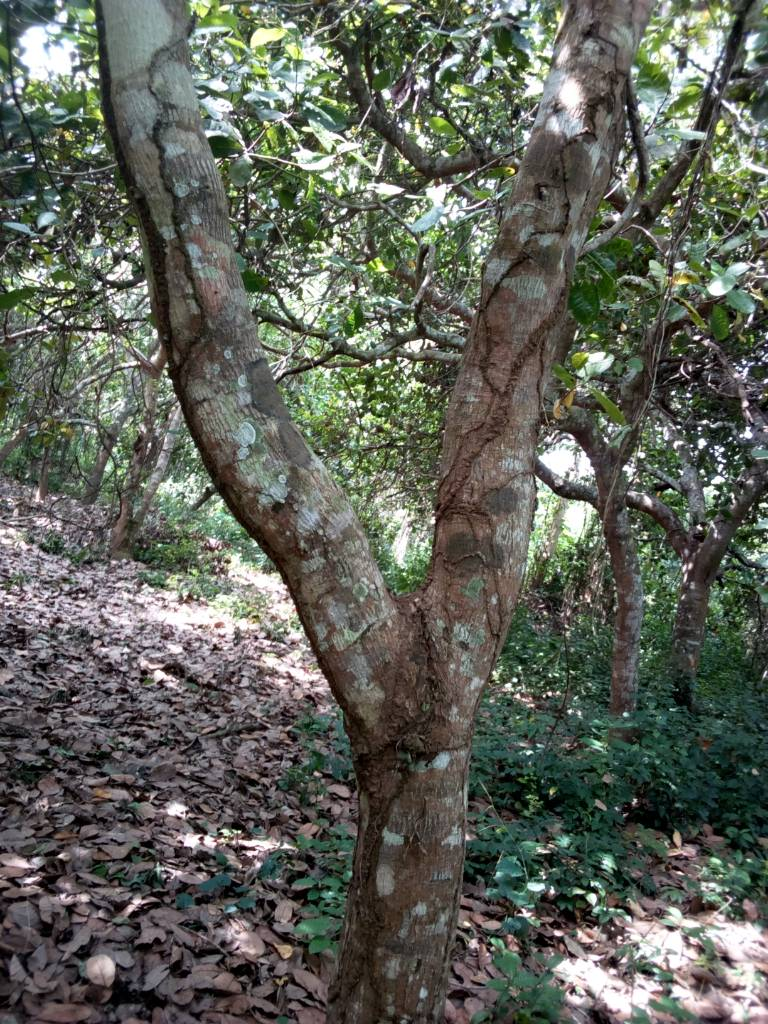Termites: (433, 260, 574, 517)
